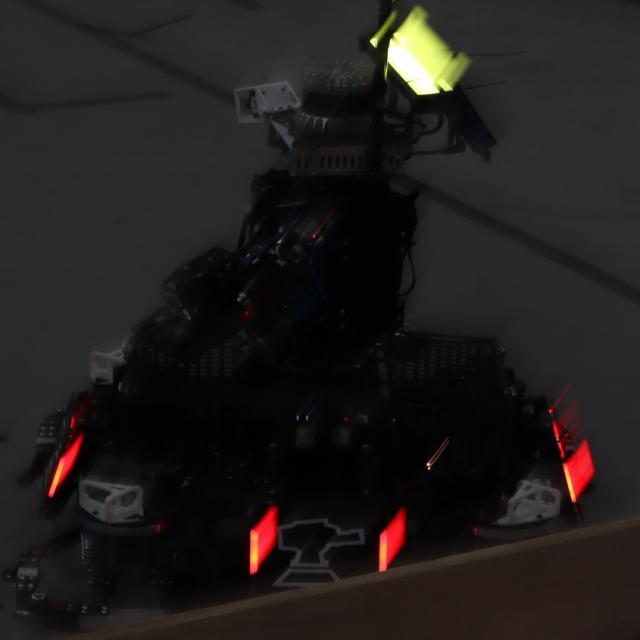Rs: (238, 502, 397, 598)
